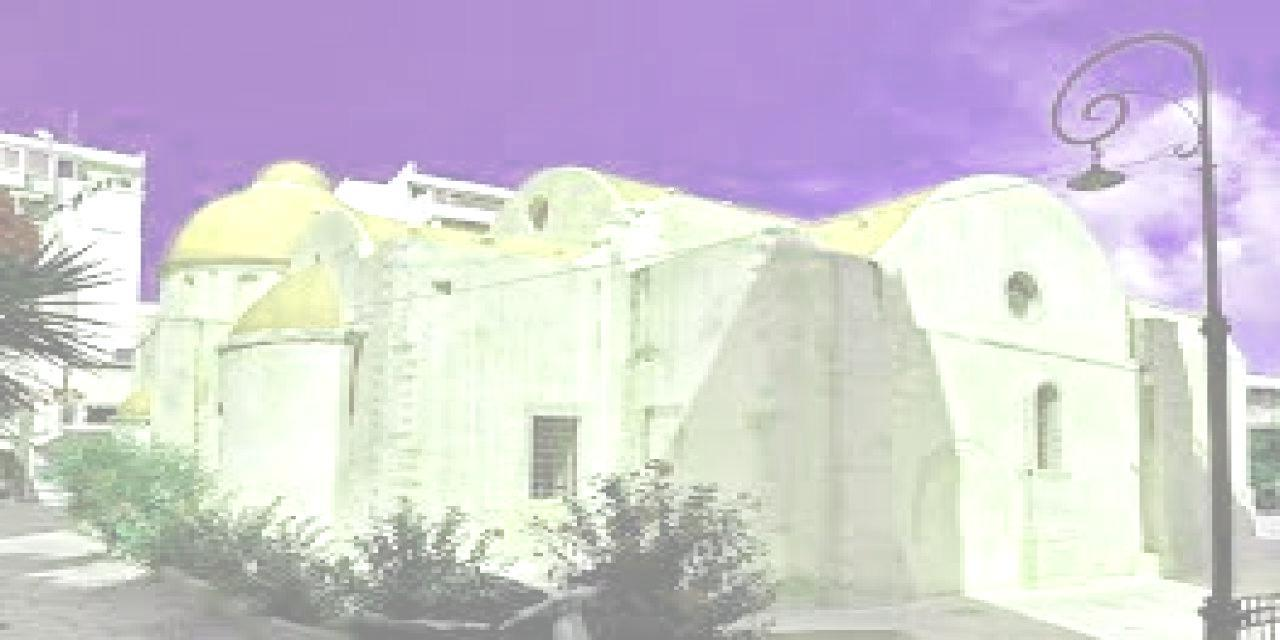Agia Aikaterini: (132, 158, 1239, 601)
